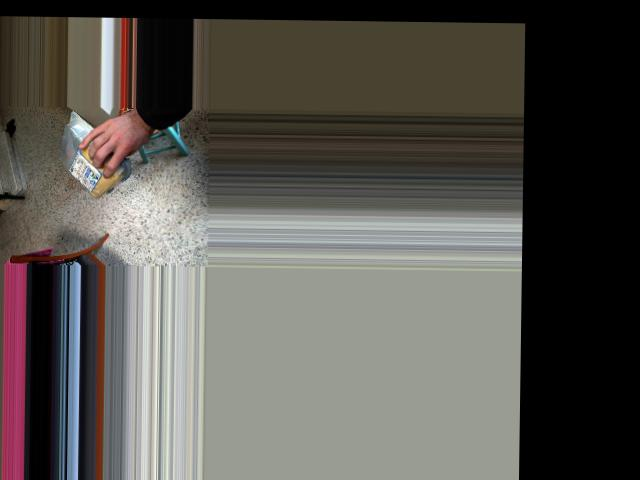cheese: (63, 113, 126, 196)
